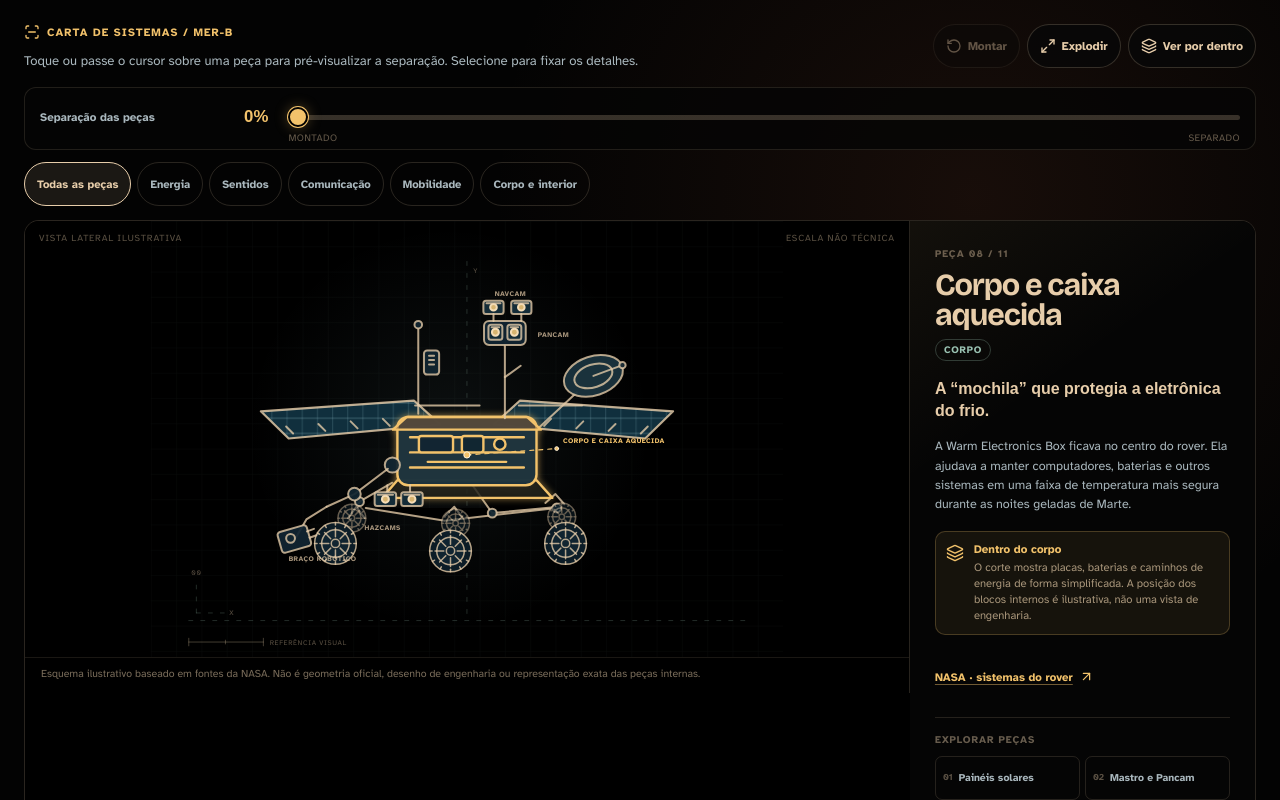
Test: illustrative rover schematic › separates, filters and exposes the illustrative cutaway
Later steps or results of the test are not shown.
Set the slider labelled "Separação das peças 0%" to "100" at point(1232, 117), box left=288, top=95, right=1240, bottom=139
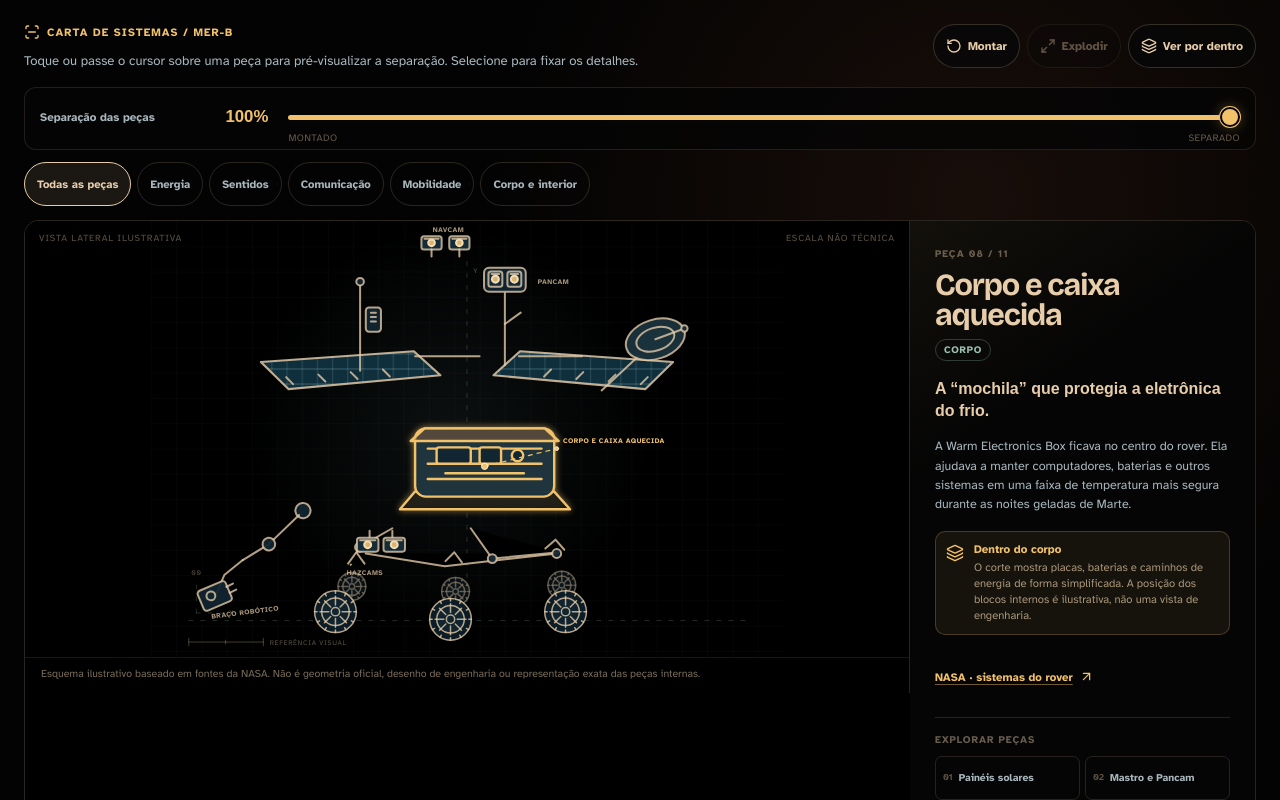
Expected: the text "100%" is shown, left=226, top=107, right=268, bottom=127
Click the button "Mobilidade".
click(432, 184)  # box left=390, top=162, right=474, bottom=206
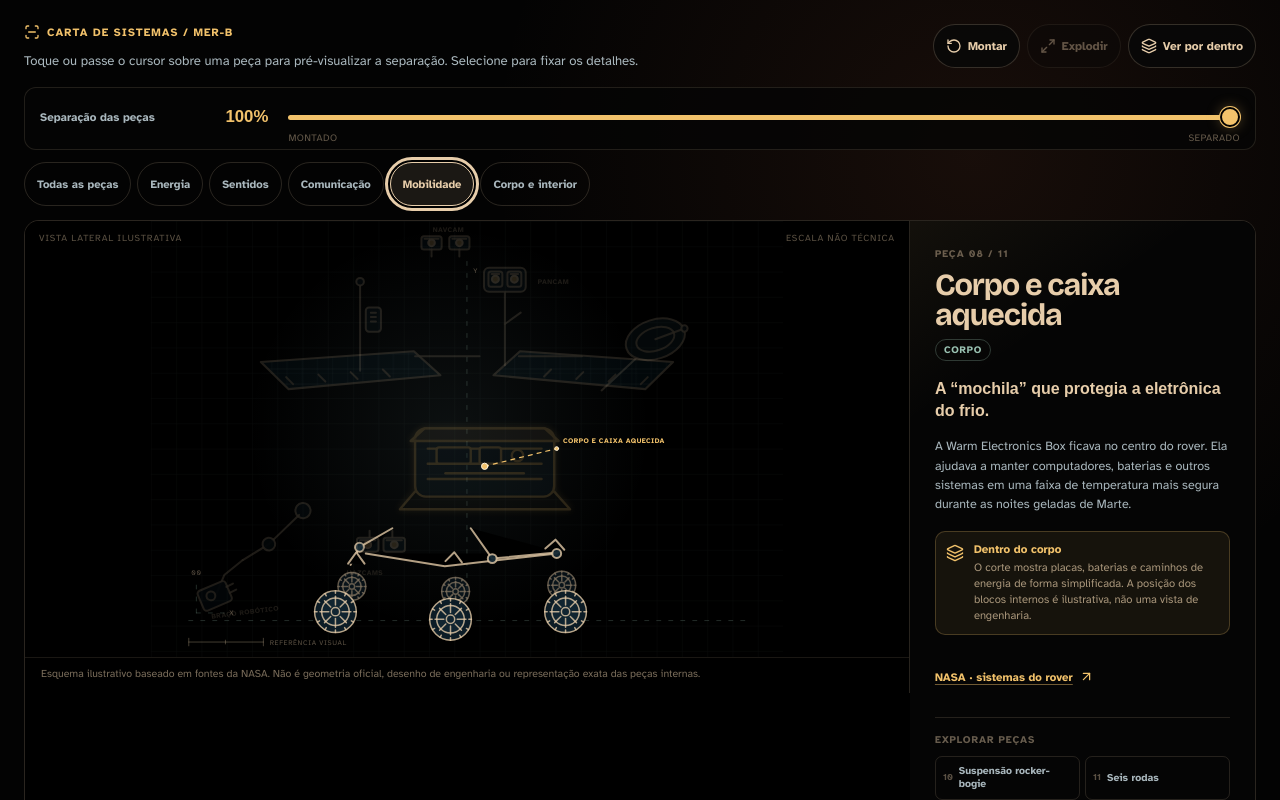
Expected: the button "Mobilidade" is pressed, left=390, top=162, right=474, bottom=206
